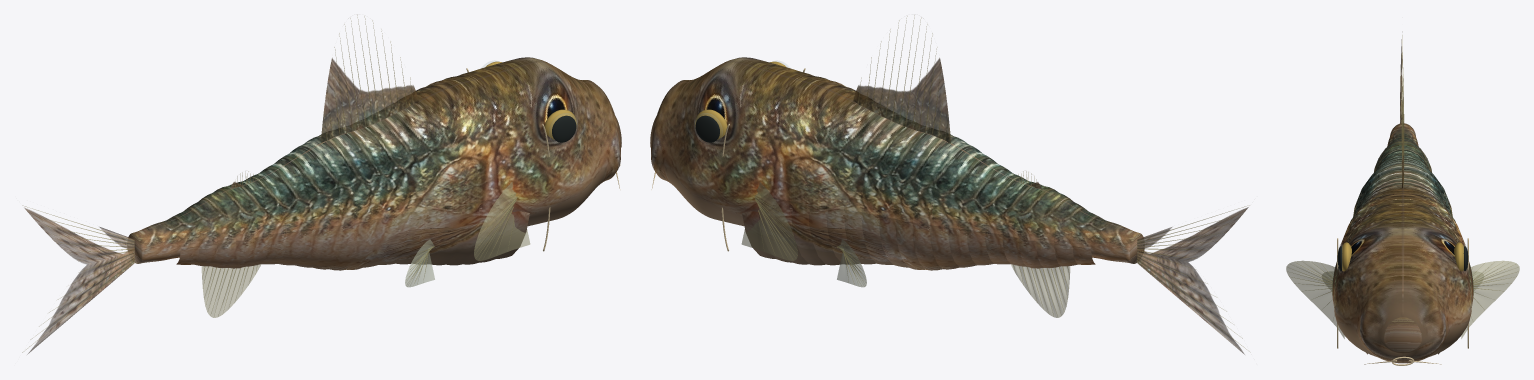
Rendered from cory-desktop.glb.
3 renders of one model, left to right at view 1: azimuth 30°, elevation 25°; view 2: azimuth 150°, elevation 25°; view 3: azimuth 270°, elevation 25°, orthographic. The views are drawn at different scales.
Parts seen in each view (by area): view 1: skin, tail, dorsal, dorsal-ray, pectoral-left, anal, pelvic-left, eye-pupil--1; view 2: skin, tail, dorsal, dorsal-ray, pectoral-left, anal, pelvic-left, eye-pupil--1; view 3: skin, pectoral-left, dorsal-ray, eye-iris--1, operculum, pelvic-left.
Part boxes in pixels (x1,y1,x2,y2): skin: (127,57,621,270); tail: (24,207,134,354); dorsal: (230,58,418,189); dorsal-ray: (22,15,517,352); pectoral-left: (474,182,530,260); anal: (201,264,261,317); pelvic-left: (405,239,434,287); eye-pupil--1: (552,115,576,142); skin: (650,57,1144,270); tail: (1137,207,1248,354); dorsal: (853,58,1041,189); dorsal-ray: (755,15,1246,349); pectoral-left: (741,182,797,260); anal: (1011,264,1070,317); pelvic-left: (837,239,866,287); eye-pupil--1: (695,115,719,142); skin: (1332,123,1473,363); pectoral-left: (1286,260,1519,338); dorsal-ray: (1292,35,1517,315); eye-iris--1: (1342,242,1463,271); operculum: (1337,238,1468,365); pelvic-left: (1322,271,1483,290).
Bounding box in the file's own units: 0.5972 × 0.2562 × 0.2335.
Materials: 11 (3 with a texture image).
